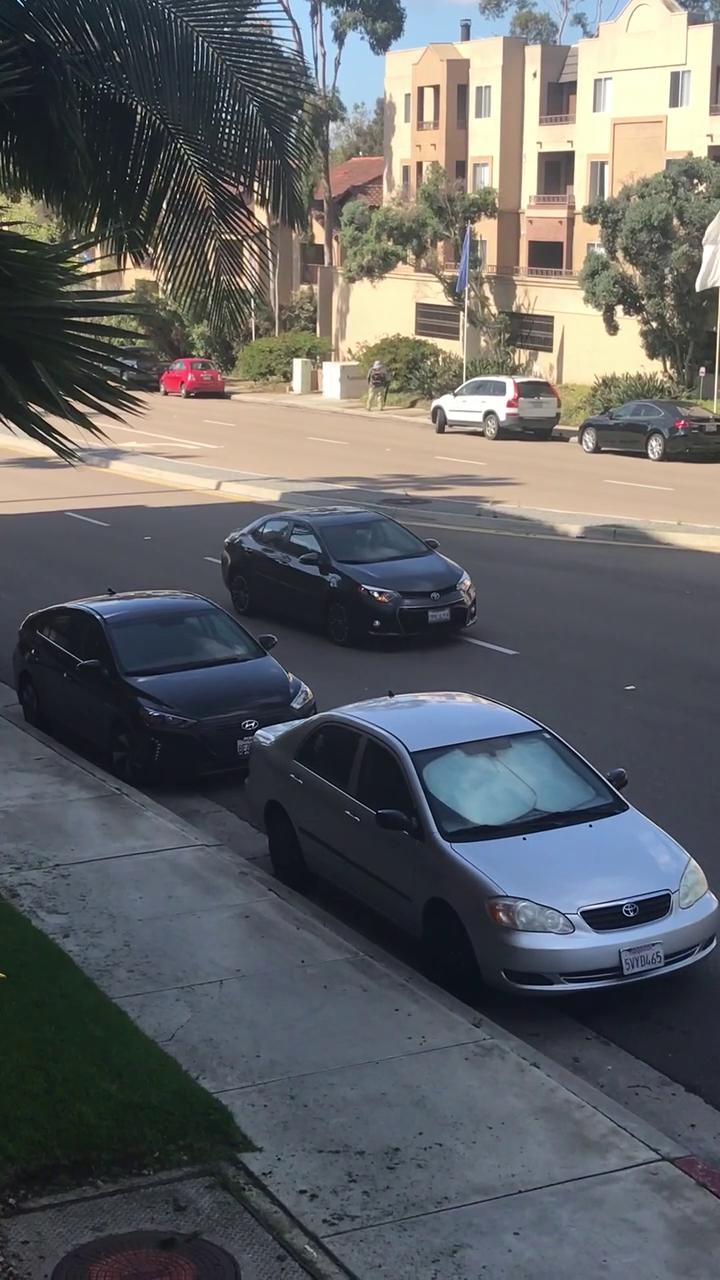car: (240, 687, 712, 1010), (33, 612, 303, 784), (219, 514, 488, 653)
